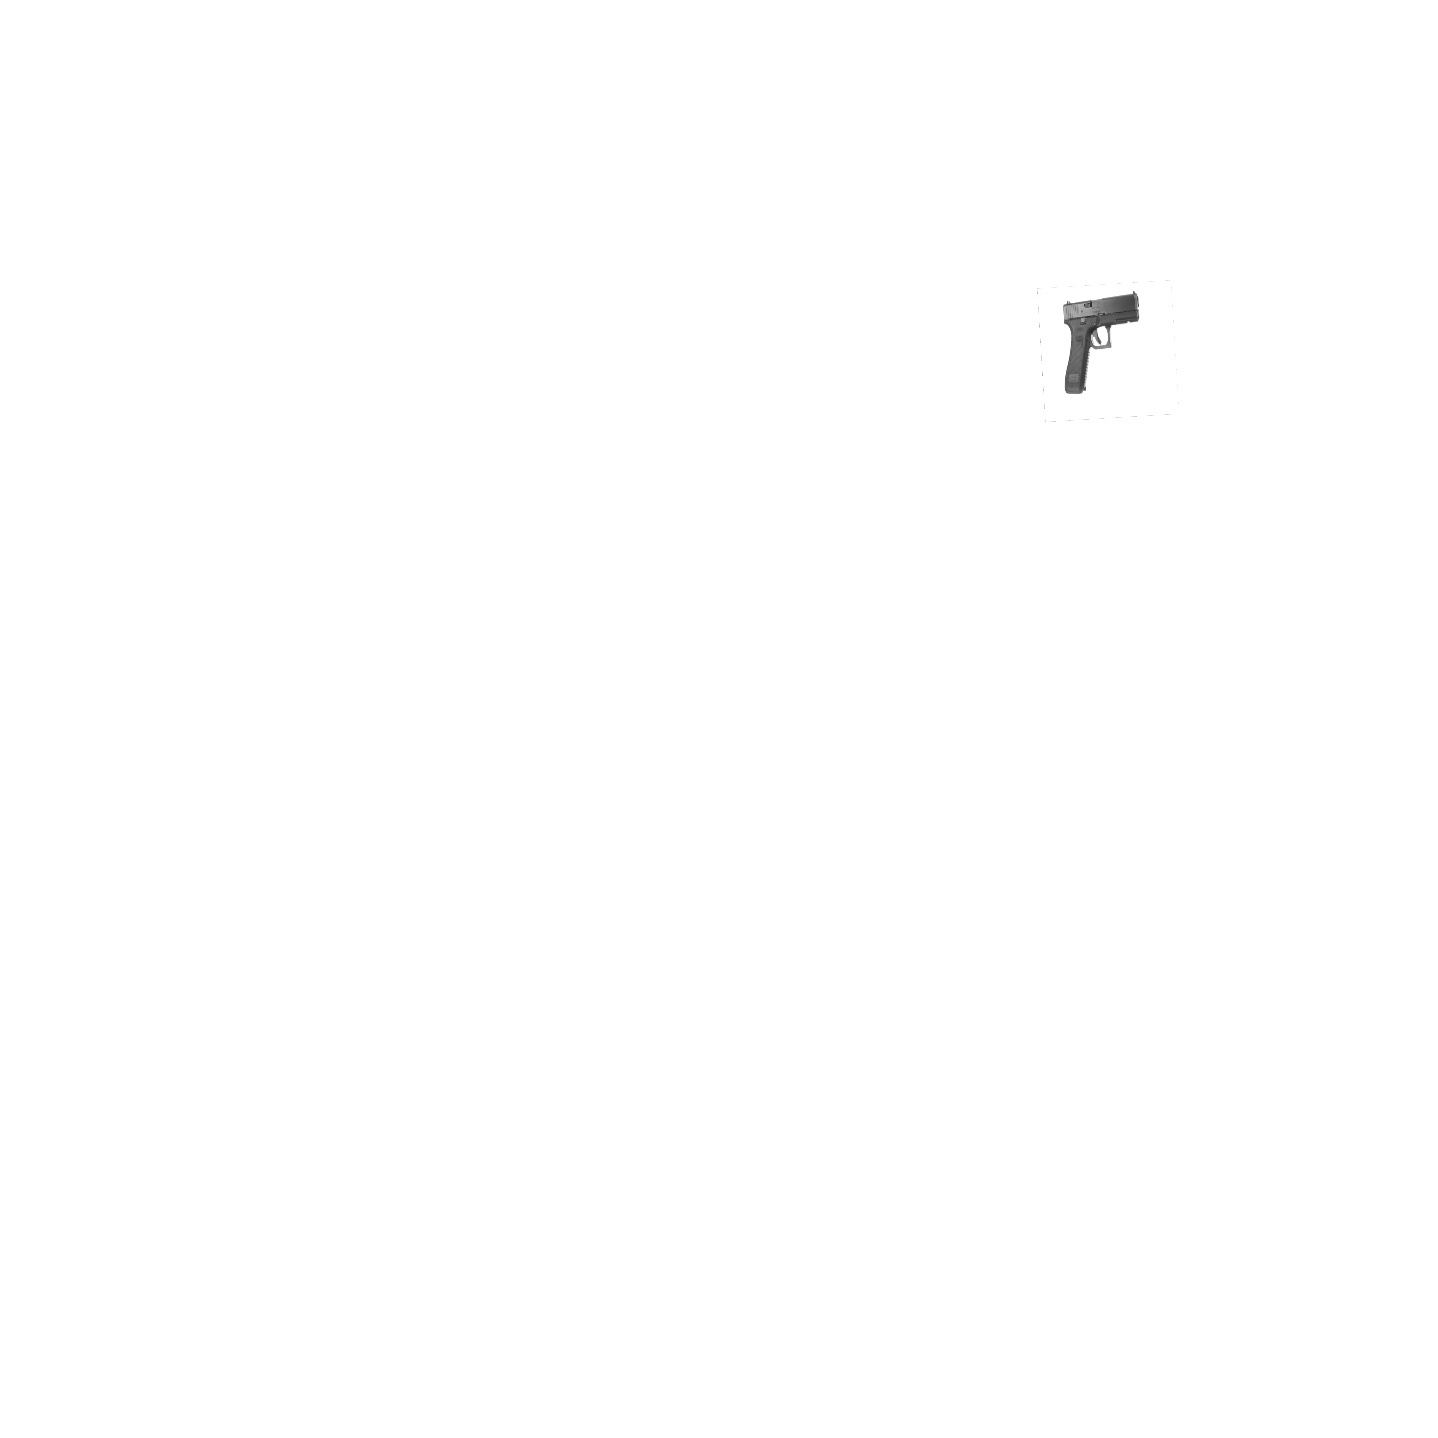gun: (1061, 291, 1140, 395)
